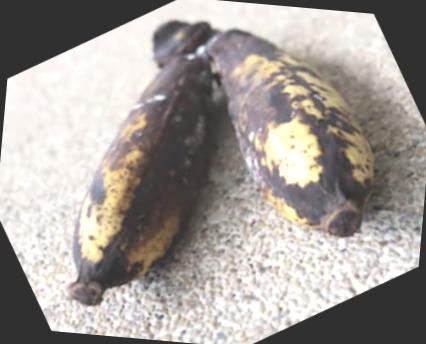Banana Overripe: (53, 0, 390, 344)
